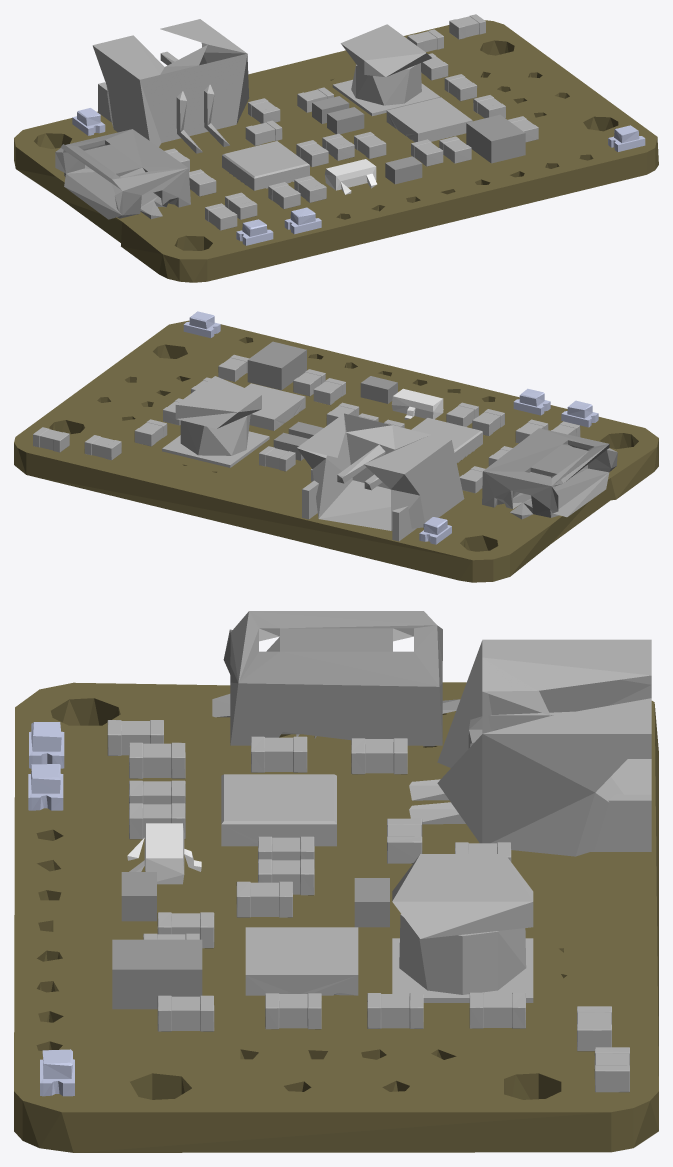
The model's file is adafruit-2465-powerboost-1000c.glb.
3 renders of one model, top to bottom at view 1: azimuth 30°, elevation 25°; view 2: azimuth 150°, elevation 25°; view 3: azimuth 270°, elevation 25°, orthographic. The views are drawn at different scales.
Parts seen in each view (by area): view 1: colour 1, colour 2, colour 4, colour 3, colour 5; view 2: colour 1, colour 2, colour 4, colour 3, colour 5; view 3: colour 1, colour 2, colour 4, colour 3, colour 5.
Part boxes in pixels (left/top/right/bottom): colour 1: left=14, top=20, right=658, bottom=282; colour 2: left=92, top=14, right=538, bottom=230; colour 4: left=55, top=96, right=525, bottom=219; colour 3: left=72, top=108, right=645, bottom=245; colour 5: left=324, top=159, right=377, bottom=194; colour 1: left=14, top=320, right=658, bottom=582; colour 2: left=33, top=354, right=580, bottom=541; colour 4: left=247, top=341, right=617, bottom=519; colour 3: left=183, top=311, right=598, bottom=544; colour 5: left=391, top=388, right=443, bottom=419; colour 1: left=14, top=682, right=658, bottom=1152; colour 2: left=107, top=639, right=651, bottom=1092; colour 4: left=112, top=611, right=460, bottom=1009; colour 3: left=28, top=722, right=74, bottom=1096; colour 5: left=127, top=823, right=201, bottom=884.
Bounding box in the file's own units: 0.0364 × 0.00637 × 0.0229.
